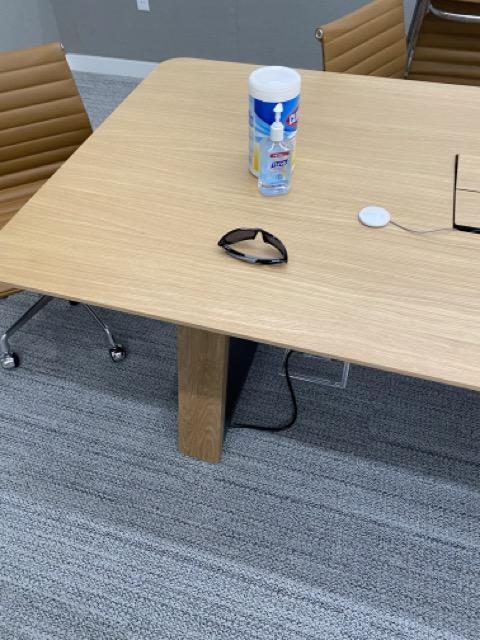Sunglasses: (217, 224, 289, 267)
